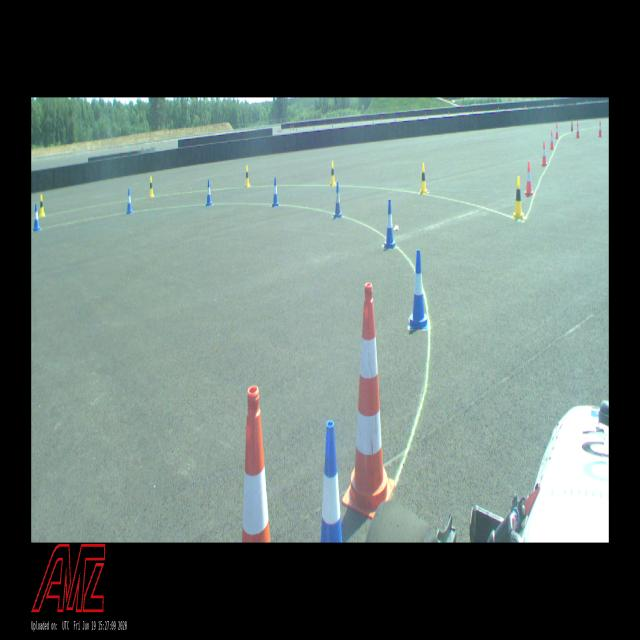blue_cone: (319, 419, 343, 542), (409, 248, 428, 331), (384, 199, 396, 249), (333, 182, 342, 219), (272, 177, 280, 207), (33, 204, 40, 232), (126, 188, 133, 214), (206, 179, 212, 206)
large_orange_cone: (343, 282, 396, 516), (242, 385, 272, 542)
orange_cone: (525, 162, 533, 196), (541, 140, 547, 167), (598, 120, 603, 137), (550, 130, 554, 150), (576, 122, 580, 138), (555, 123, 559, 139), (571, 119, 573, 132)
yellow_cone: (512, 176, 524, 219), (419, 162, 427, 194), (330, 161, 336, 185), (244, 165, 250, 187), (39, 195, 45, 217), (149, 175, 154, 198)
